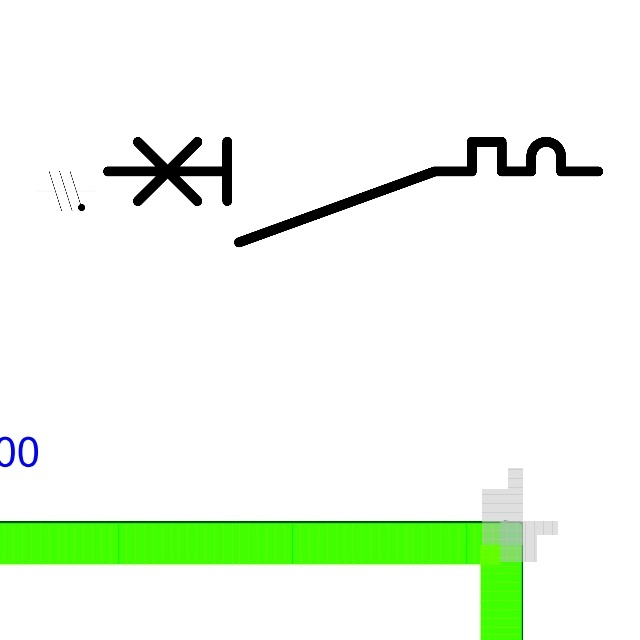interruptor_termomagnetico: (95, 129, 611, 255)
